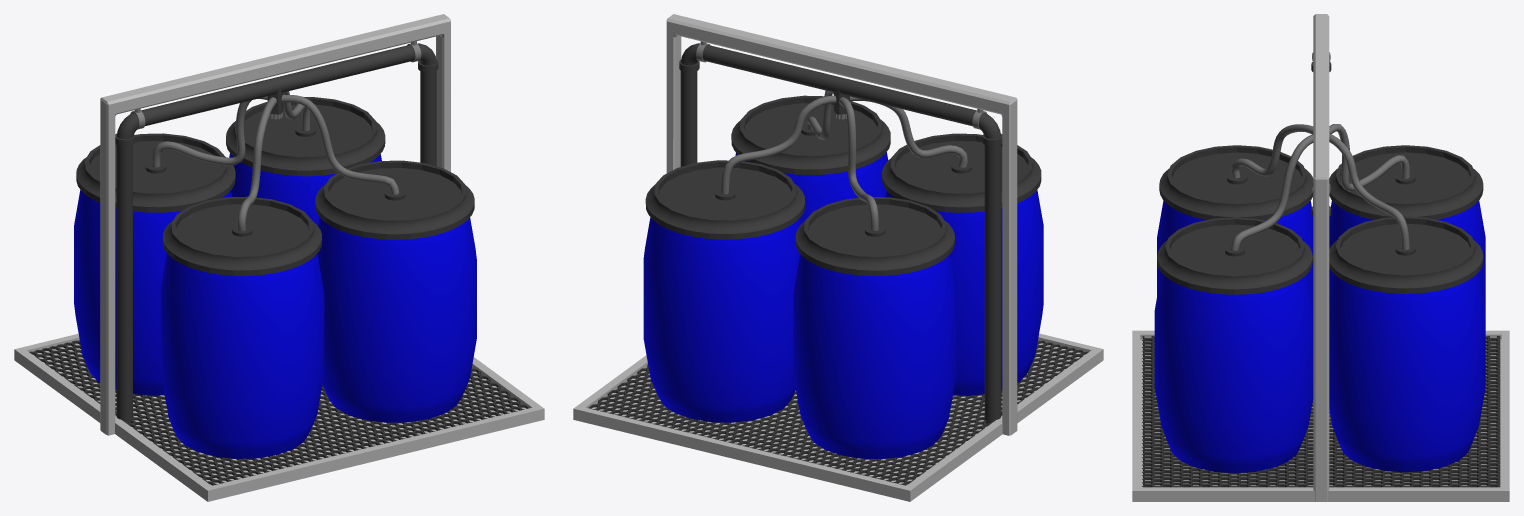
The model's file is f4f_Algen_Kompartiment_Model.fbx.
3 views of the same model, side by side, from view 1: azimuth 30°, elevation 25°; view 2: azimuth 150°, elevation 25°; view 3: azimuth 270°, elevation 25° (orthographic). The views are drawn at different scales.
Visible parts, largest first — view 1: barrel3, barrel4, barrel1, frame, ground, hexFloor, barrel2, pCylinder1, pCylinder3, pCylinder11, tube4, tube1 (+1 smaller); view 2: barrel1, barrel2, barrel3, frame, ground, hexFloor, barrel4, pCylinder3, pCylinder1, pCylinder11, tube3, tube4 (+1 smaller); view 3: barrel4, barrel2, hexFloor, ground, barrel3, barrel1, frame, tube1, tube3, tube4, tube2.
Part boxes in pixels (box(x1,y1,x2,y2)): barrel3: box(160, 196, 324, 458); barrel4: box(315, 160, 476, 422); barrel1: box(74, 133, 235, 395); frame: box(100, 14, 450, 435); ground: box(14, 333, 544, 501); hexFloor: box(29, 340, 528, 485); barrel2: box(226, 97, 385, 225); pCylinder1: box(141, 45, 414, 125); pCylinder3: box(116, 145, 132, 423); pCylinder11: box(420, 71, 436, 166); tube4: box(152, 96, 267, 167); tube1: box(281, 95, 399, 194); barrel1: box(793, 197, 956, 459); barrel2: box(643, 160, 805, 422); barrel3: box(882, 133, 1043, 395); frame: box(666, 14, 1017, 435); ground: box(573, 333, 1103, 501); hexFloor: box(588, 340, 1088, 485); barrel4: box(731, 95, 890, 222); pCylinder3: box(984, 145, 1001, 423); pCylinder1: box(702, 45, 976, 126); pCylinder11: box(680, 71, 697, 166); tube3: box(721, 95, 836, 194); tube4: box(838, 97, 878, 230); barrel4: box(1154, 217, 1313, 473); barrel2: box(1329, 216, 1485, 472); hexFloor: box(1142, 336, 1500, 487); ground: box(1132, 330, 1509, 501); barrel3: box(1157, 145, 1313, 297); barrel1: box(1329, 145, 1485, 307); frame: box(1313, 14, 1329, 501); tube1: box(1231, 134, 1313, 250); tube3: box(1329, 133, 1409, 249); tube4: box(1329, 124, 1409, 191); tube2: box(1231, 124, 1313, 178).
Bounding box in the file's own units: 24.17 × 22.32 × 23.5.
